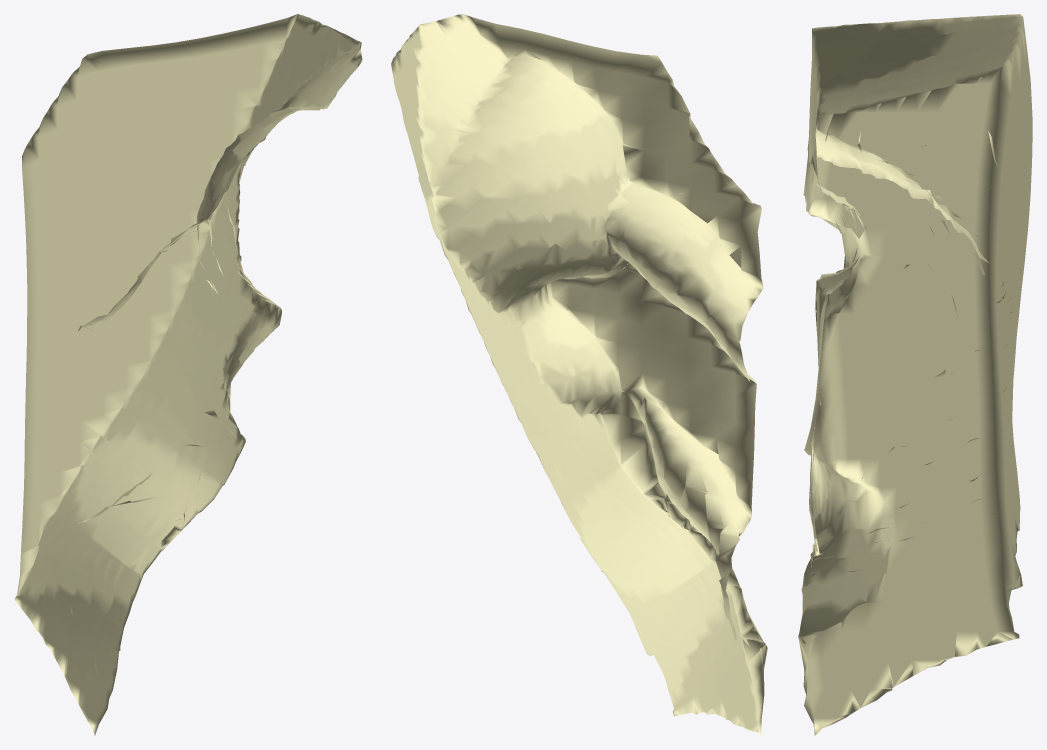
File: Ptbn2j2.gltf
3 views of the same model, side by side, from view 1: azimuth 30°, elevation 25°; view 2: azimuth 150°, elevation 25°; view 3: azimuth 270°, elevation 25° (orthographic). The views are drawn at different scales.
Parts seen in each view (by area): view 1: Switch_Switch_osgPicked_gmeGeoEntityGeode_Geometry_0; view 2: Switch_Switch_osgPicked_gmeGeoEntityGeode_Geometry_0; view 3: Switch_Switch_osgPicked_gmeGeoEntityGeode_Geometry_0.
Part boxes in pixels (<box>): Switch_Switch_osgPicked_gmeGeoEntityGeode_Geometry_0: <box>14,14,362,735</box>; Switch_Switch_osgPicked_gmeGeoEntityGeode_Geometry_0: <box>391,14,767,735</box>; Switch_Switch_osgPicked_gmeGeoEntityGeode_Geometry_0: <box>798,14,1032,735</box>.
Size of the model in its own units: 6691 by 13272 by 3692.
